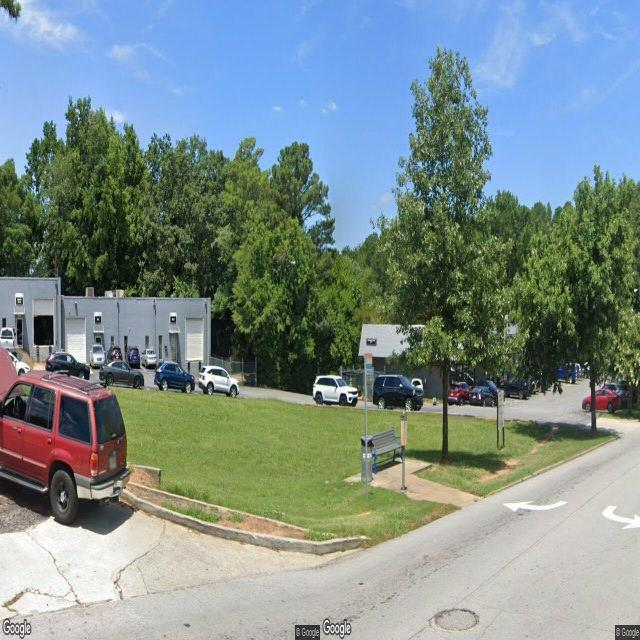seating: (368, 429, 406, 486)
trash_can: (361, 436, 374, 488)
